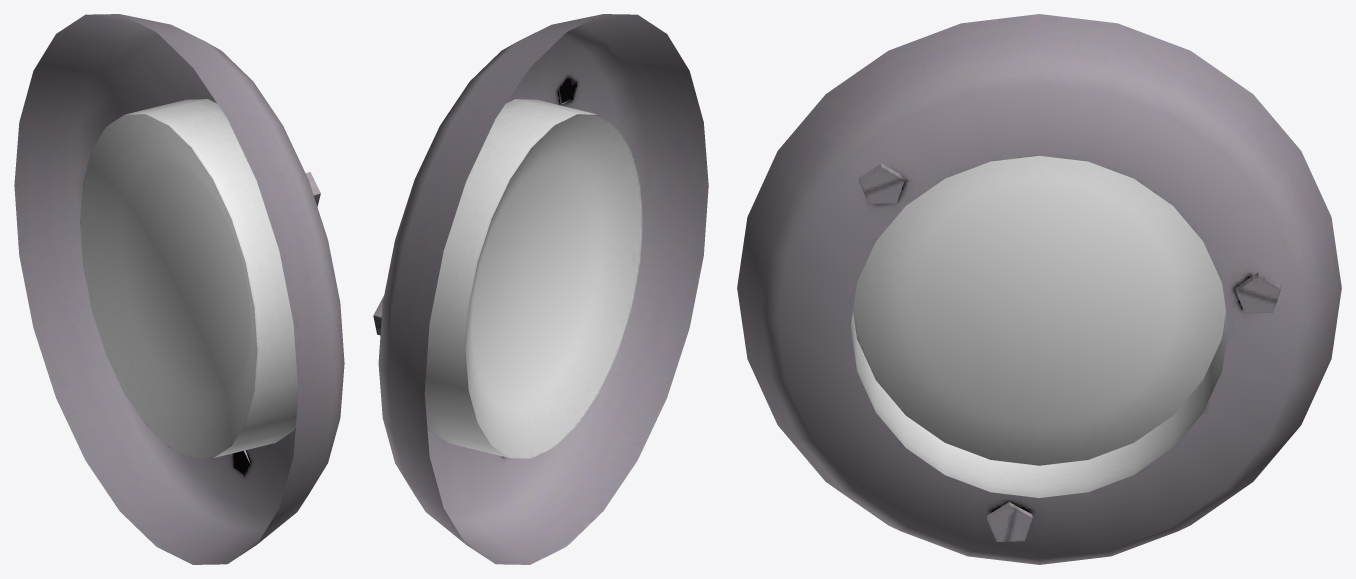
File: props_2fort_groundlight001.glb
3 views of the same model, side by side, from view 1: azimuth 30°, elevation 25°; view 2: azimuth 150°, elevation 25°; view 3: azimuth 270°, elevation 25° (orthographic). The views are drawn at different scales.
Visible parts, largest first — view 1: models/props_2fort/groundlight001; view 2: models/props_2fort/groundlight001; view 3: models/props_2fort/groundlight001.
Part boxes in pixels (x1,y1,x2,y2): models/props_2fort/groundlight001: [14, 14, 344, 564]; models/props_2fort/groundlight001: [373, 14, 708, 564]; models/props_2fort/groundlight001: [737, 14, 1341, 564].
Size of the model in its own units: 1.83 by 11.23 by 11.23.
Materials: 1 (1 with a texture image).
